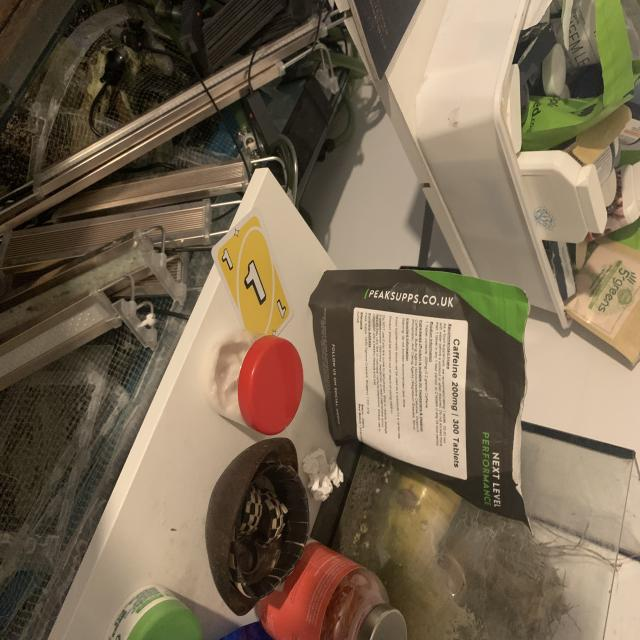lyellow-1: (218, 248, 238, 276)
